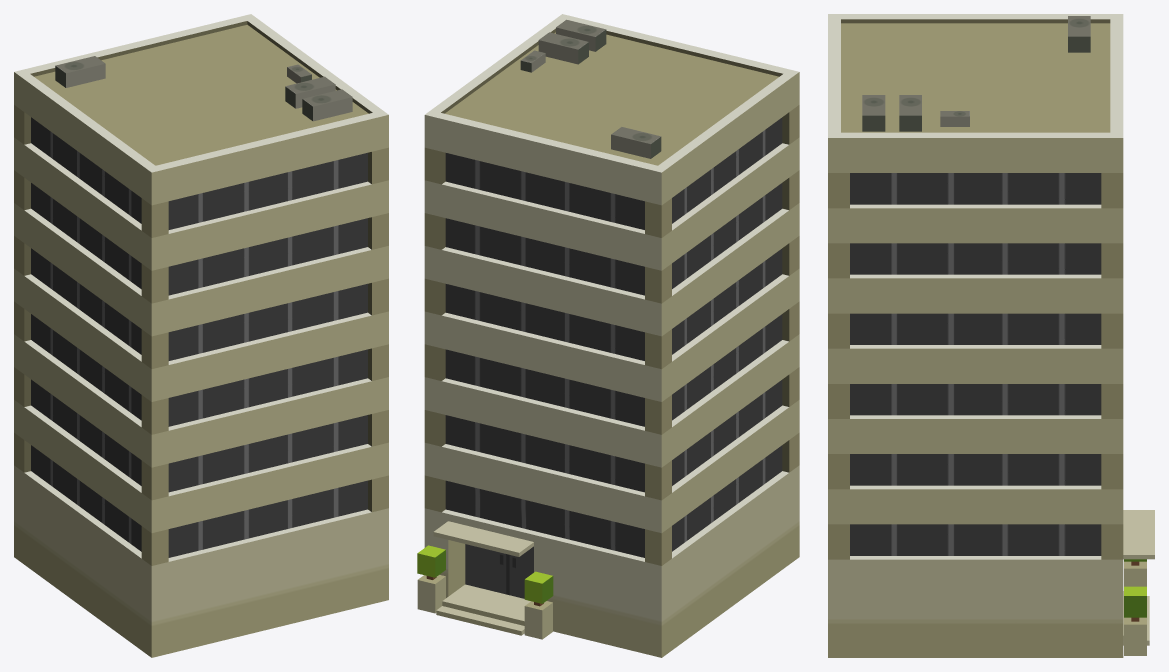
Rendered from office_large_mesh.fbx.
The picture shows the model from 3 angles, left to right: view 1: azimuth 30°, elevation 25°; view 2: azimuth 150°, elevation 25°; view 3: azimuth 270°, elevation 25°; orthographic projection. The views are drawn at different scales.
Visible parts, largest first — view 1: office_large_mesh; view 2: office_large_mesh; view 3: office_large_mesh.
Part boxes in pixels (<box>): office_large_mesh: <box>14,14,388,657</box>; office_large_mesh: <box>417,14,799,657</box>; office_large_mesh: <box>828,14,1154,657</box>.
Size of the model in its own units: 13.62 by 27.24 by 15.17.
